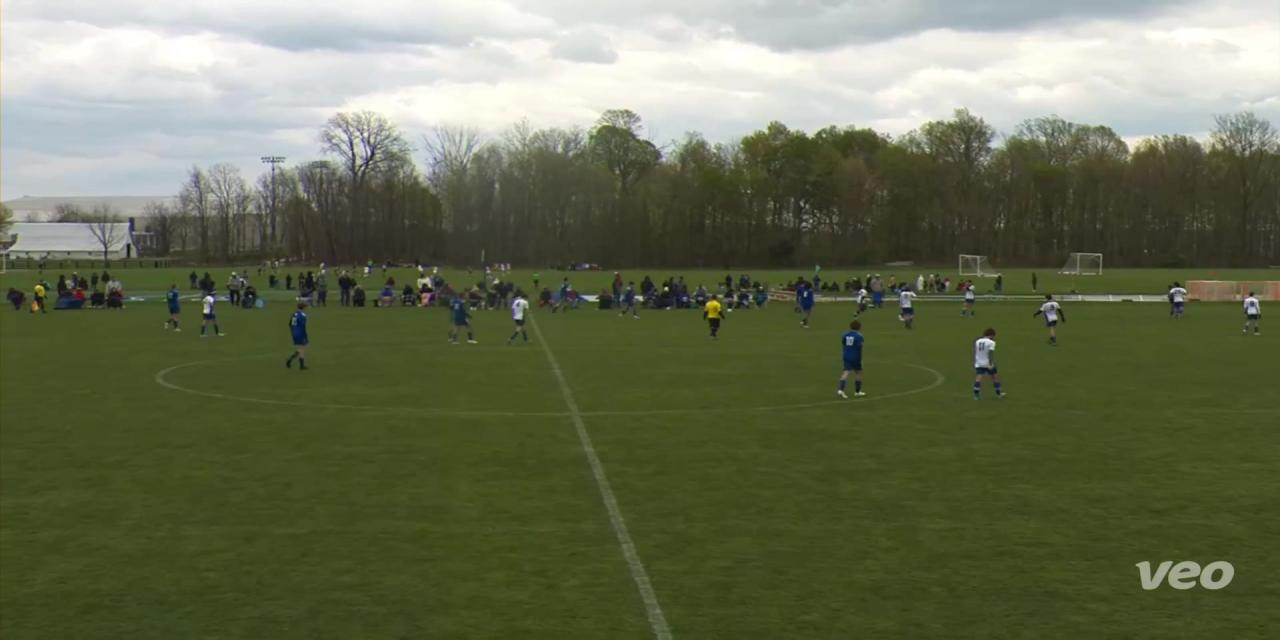sports ball: (722, 303, 738, 318)
